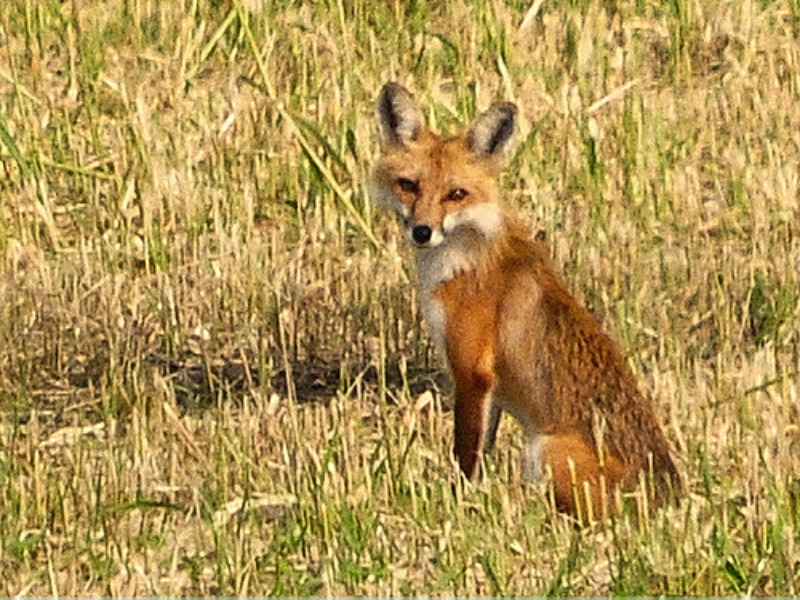fox: (366, 76, 699, 530)
